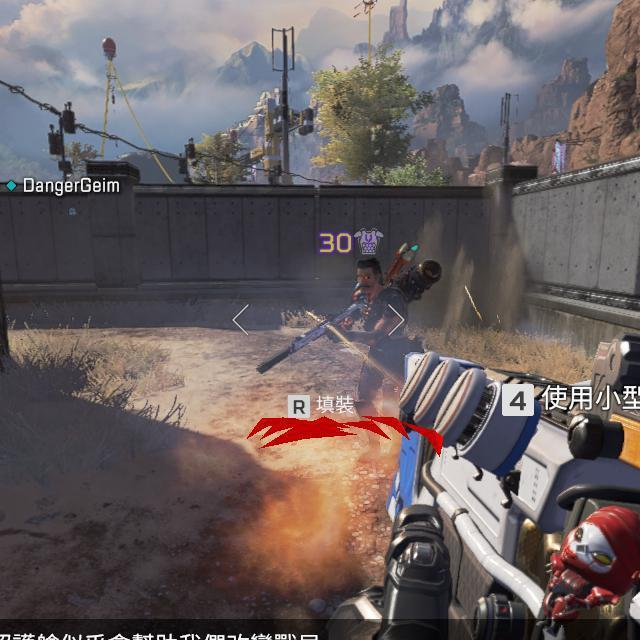avatar: (351, 255, 411, 462)
